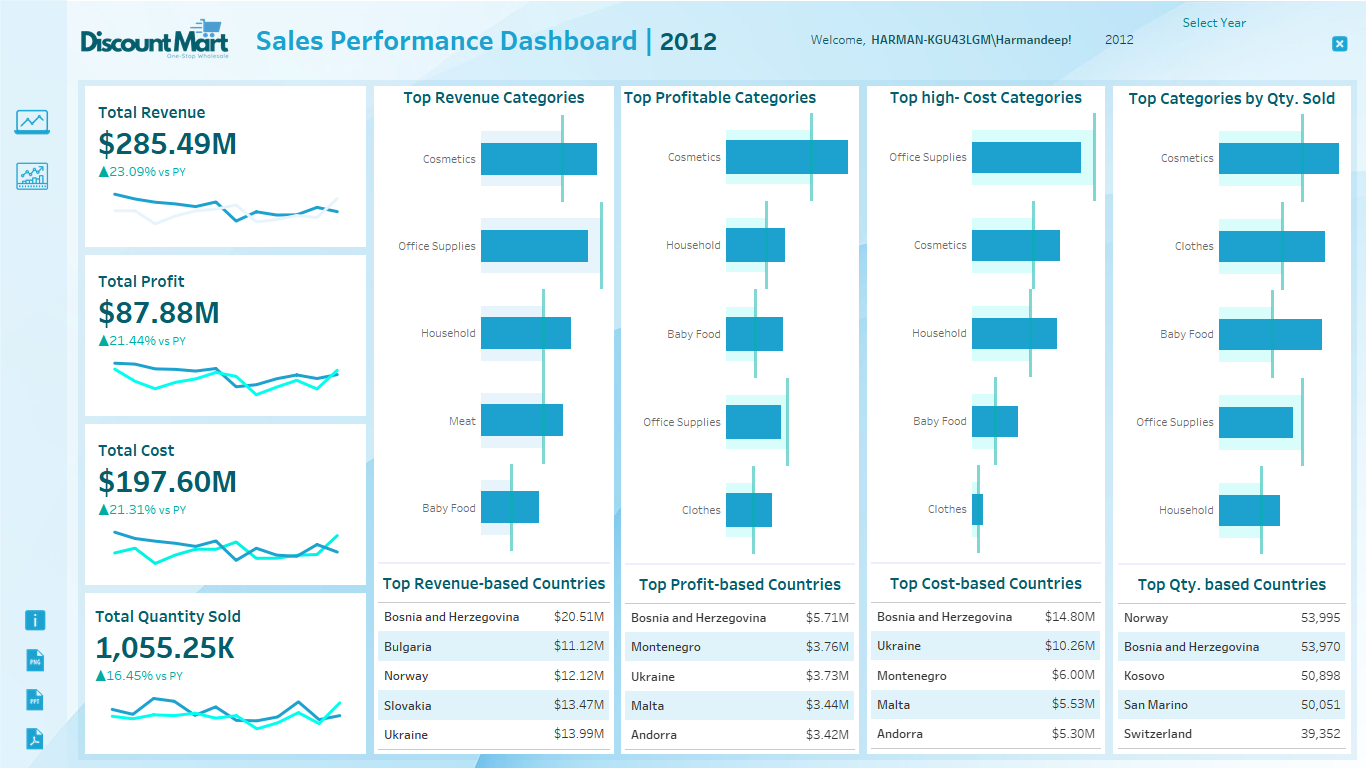

This screenshot's page, from the dashboard's own definition file:
{"tool":"tableau","page":{"name":"Performance","canvas":[1366,768],"ordinal":1},"visuals":[{"type":"image","param":"Image/desktop-wallpaper-blue-and-white-background-23-background-1024×768-in-2020","box":[0,0,1368,769]},{"type":"blank","box":[0,0,67,768]},{"type":"image","param":"Image/dis-removebg-preview.png","box":[70,9,173,60]},{"type":"text","box":[243,9,561,60]},{"type":"text","box":[804,9,526,60]},{"type":"parameter","param":"[Parameters].[Parameter 1]","box":[1099,9,116,60]},{"type":"filter","title":"Revenue Top5 Cat.","param":"[federated.1magyn804czebi18gkr0s1swlet2].[none:Item Type:nk]","box":[1215,9,115,60]},{"type":"blank","box":[1330,9,20,60]},{"type":"dashboard-object","box":[1327,31,25,25]},{"type":"worksheet","title":"T.Revenue","mark":"Automatic","rows":["Calculation_1877156647801798664","~ CY Revenue (copy)_1877156647802163209"],"cols":["Order Date"],"box":[80,82,291,169]},{"type":"text","box":[374,86,240,22]},{"type":"text","box":[621,86,238,22]},{"type":"text","box":[867,86,238,22]},{"type":"text","box":[1114,87,236,22]},{"type":"dashboard-object","box":[10,100,44,44]},{"type":"worksheet","title":"Revenue Top5 Cat.","mark":"Bar","rows":["Item Type"],"cols":["~ CY Revenue (copy)_1877156647802163209","Calculation_1877156647801798664"],"box":[374,108,240,490]},{"type":"worksheet","title":"Profit Top5 Cat. ","mark":"Bar","rows":["Item Type"],"cols":["~Profit CY (copy)_1877156647861444643","Calculation_1877156647860351010"],"box":[621,108,238,490]},{"type":"worksheet","title":"Costs Top10 Cat. ","mark":"Bar","rows":["Item Type"],"cols":["~CY Cost (copy)_1877156647812583440","Calculation_1877156647812378639"],"box":[867,108,238,490]},{"type":"worksheet","title":"Qty. Top5 Cat.","mark":"Bar","rows":["Item Type"],"cols":["~ Quantity CY (copy)_1877156647827050526","Calculation_1877156647826604061"],"box":[1114,109,236,490]},{"type":"blank","box":[10,144,44,10]},{"type":"dashboard-object","box":[10,154,44,44]},{"type":"worksheet","title":"T.Profits","mark":"Automatic","rows":["Calculation_1877156647860351010","~Profit CY (copy)_1877156647861444643"],"cols":["Order Date"],"box":[80,251,291,169]},{"type":"worksheet","title":"T.Cost","mark":"Automatic","rows":["~CY Cost (copy)_1877156647812583440","Calculation_1877156647812378639"],"cols":["Order Date"],"box":[80,420,291,169]},{"type":"worksheet","title":"T.Qty","mark":"Automatic","rows":["Calculation_1877156647826604061","~ Quantity CY (copy)_1877156647827050526"],"cols":["Order Date"],"box":[80,589,291,169]},{"type":"blank","box":[374,598,240,10]},{"type":"blank","box":[621,598,238,10]},{"type":"blank","box":[867,598,238,10]},{"type":"blank","box":[1114,599,236,10]},{"type":"dashboard-object","box":[10,600,50,40]},{"type":"text","box":[374,608,240,32]},{"type":"text","box":[621,608,238,30]},{"type":"text","box":[867,608,238,30]},{"type":"text","box":[1114,609,236,30]},{"type":"worksheet","title":"Profit Top5 Ctry. ","mark":"Text","rows":["Country"],"box":[621,638,238,109]},{"type":"worksheet","title":"Costs Top5 Ctry.","mark":"Text","rows":["Country"],"box":[867,638,238,109]},{"type":"worksheet","title":"Qty. Top5 Ctry.","mark":"Automatic","rows":["Country"],"box":[1114,639,236,109]},{"type":"dashboard-object","box":[10,640,50,40]},{"type":"worksheet","title":"Revenue Top5 Ctry.","mark":"Automatic","rows":["Country"],"box":[374,640,240,109]},{"type":"dashboard-object","box":[10,680,50,39]},{"type":"dashboard-object","box":[10,719,50,39]}]}

Visuals, with their boxes in screenshot pixels (x1, y1, x2, y2), scaled from the page's 1366x768 canvas onto the 1366x768 screenshot:
image: {"left": 0, "top": 0, "right": 1365, "bottom": 767}
blank: {"left": 0, "top": 0, "right": 67, "bottom": 767}
image: {"left": 70, "top": 9, "right": 243, "bottom": 69}
text: {"left": 243, "top": 9, "right": 804, "bottom": 69}
text: {"left": 804, "top": 9, "right": 1330, "bottom": 69}
parameter: {"left": 1099, "top": 9, "right": 1215, "bottom": 69}
"Revenue Top5 Cat." filter: {"left": 1215, "top": 9, "right": 1330, "bottom": 69}
blank: {"left": 1330, "top": 9, "right": 1350, "bottom": 69}
dashboard-object: {"left": 1327, "top": 31, "right": 1352, "bottom": 56}
"T.Revenue" worksheet: {"left": 80, "top": 82, "right": 371, "bottom": 251}
text: {"left": 374, "top": 86, "right": 614, "bottom": 108}
text: {"left": 621, "top": 86, "right": 859, "bottom": 108}
text: {"left": 867, "top": 86, "right": 1105, "bottom": 108}
text: {"left": 1114, "top": 87, "right": 1350, "bottom": 109}
dashboard-object: {"left": 10, "top": 100, "right": 54, "bottom": 144}
"Revenue Top5 Cat." worksheet (Bar marks): {"left": 374, "top": 108, "right": 614, "bottom": 598}
"Profit Top5 Cat. " worksheet (Bar marks): {"left": 621, "top": 108, "right": 859, "bottom": 598}
"Costs Top10 Cat. " worksheet (Bar marks): {"left": 867, "top": 108, "right": 1105, "bottom": 598}
"Qty. Top5 Cat." worksheet (Bar marks): {"left": 1114, "top": 109, "right": 1350, "bottom": 599}
blank: {"left": 10, "top": 144, "right": 54, "bottom": 154}
dashboard-object: {"left": 10, "top": 154, "right": 54, "bottom": 198}
"T.Profits" worksheet: {"left": 80, "top": 251, "right": 371, "bottom": 420}
"T.Cost" worksheet: {"left": 80, "top": 420, "right": 371, "bottom": 589}
"T.Qty" worksheet: {"left": 80, "top": 589, "right": 371, "bottom": 758}
blank: {"left": 374, "top": 598, "right": 614, "bottom": 608}
blank: {"left": 621, "top": 598, "right": 859, "bottom": 608}
blank: {"left": 867, "top": 598, "right": 1105, "bottom": 608}
blank: {"left": 1114, "top": 599, "right": 1350, "bottom": 609}
dashboard-object: {"left": 10, "top": 600, "right": 60, "bottom": 640}
text: {"left": 374, "top": 608, "right": 614, "bottom": 640}
text: {"left": 621, "top": 608, "right": 859, "bottom": 638}
text: {"left": 867, "top": 608, "right": 1105, "bottom": 638}
text: {"left": 1114, "top": 609, "right": 1350, "bottom": 639}
"Profit Top5 Ctry. " worksheet (Text marks): {"left": 621, "top": 638, "right": 859, "bottom": 747}
"Costs Top5 Ctry." worksheet (Text marks): {"left": 867, "top": 638, "right": 1105, "bottom": 747}
"Qty. Top5 Ctry." worksheet: {"left": 1114, "top": 639, "right": 1350, "bottom": 748}
dashboard-object: {"left": 10, "top": 640, "right": 60, "bottom": 680}
"Revenue Top5 Ctry." worksheet: {"left": 374, "top": 640, "right": 614, "bottom": 749}
dashboard-object: {"left": 10, "top": 680, "right": 60, "bottom": 719}
dashboard-object: {"left": 10, "top": 719, "right": 60, "bottom": 758}
